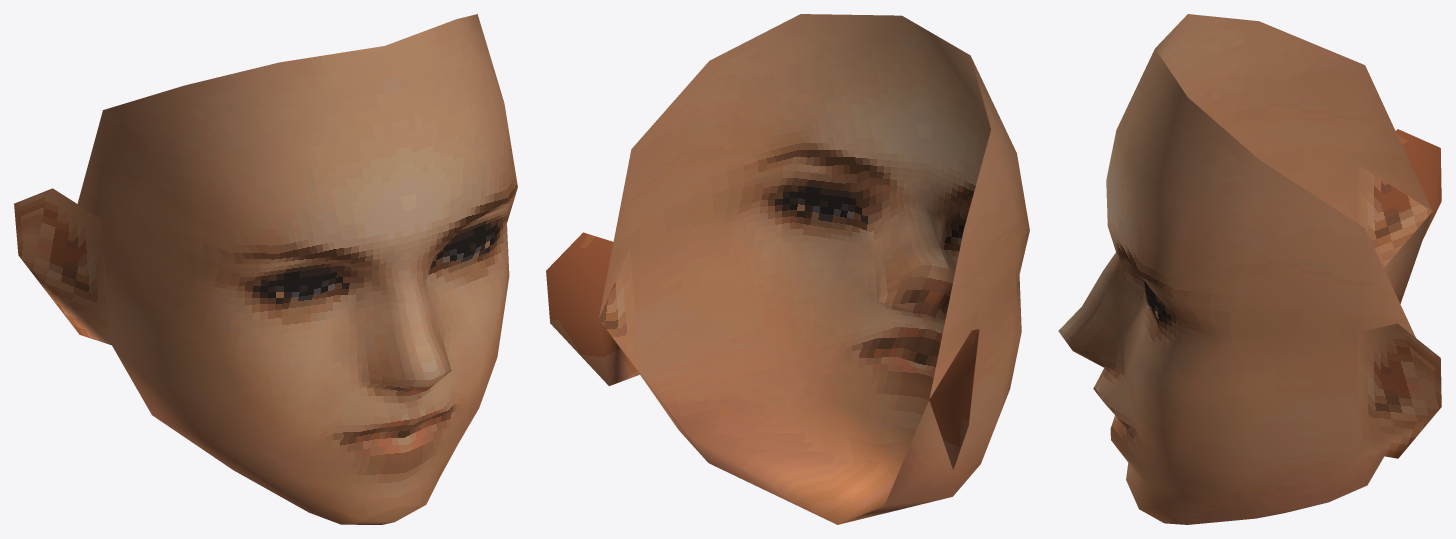
3 views of the same model, side by side, from view 1: azimuth 30°, elevation 25°; view 2: azimuth 150°, elevation 25°; view 3: azimuth 270°, elevation 25° (orthographic). The views are drawn at different scales.
Size of the model in its own units: 19.4 by 20.02 by 14.98.
1 material, 1 textured.
